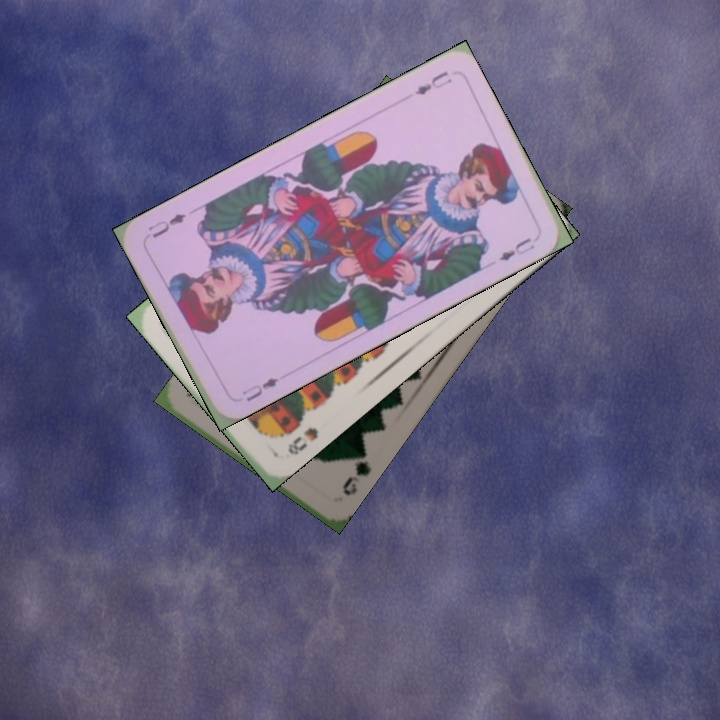EU: (410, 67, 455, 98), (238, 373, 281, 405)
G9: (338, 448, 374, 499)
S8: (283, 423, 321, 458)
